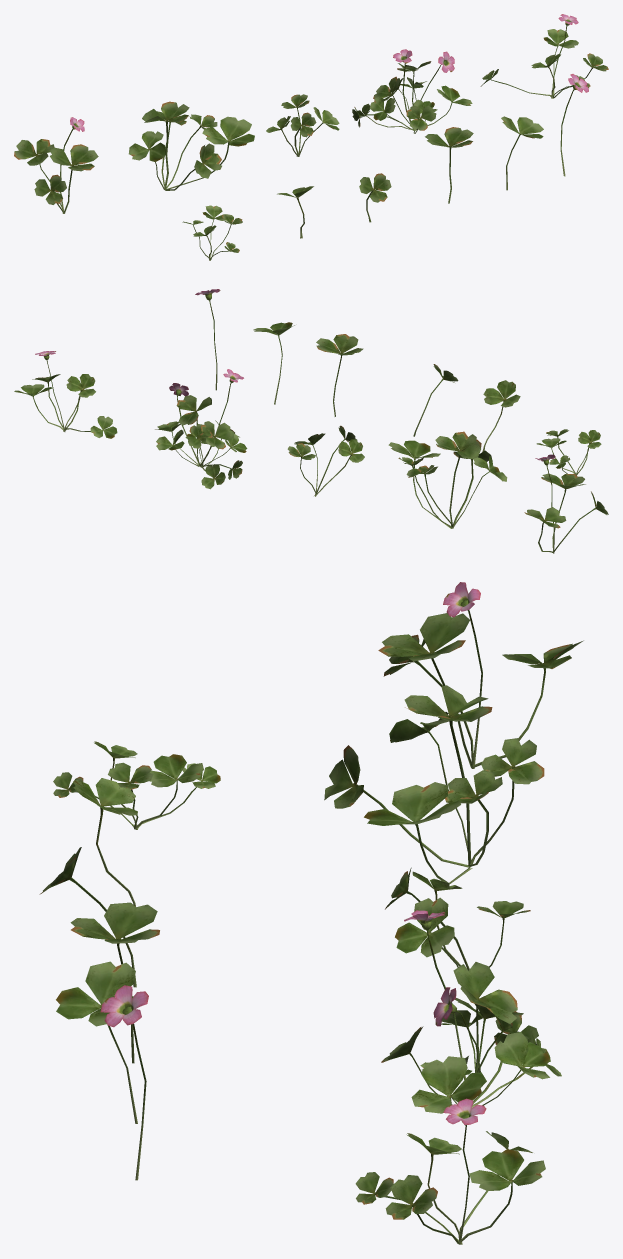
The model's file is shrub_sorrel_01.glb.
The picture shows the model from 3 angles, top to bottom: view 1: azimuth 30°, elevation 25°; view 2: azimuth 150°, elevation 25°; view 3: azimuth 270°, elevation 25°; orthographic projection. The views are drawn at different scales.
Parts seen in each view (by area): view 1: shrub_sorrel_01_lod0; view 2: shrub_sorrel_01_lod0; view 3: shrub_sorrel_01_lod0.
Boxes of the visible parts, x1,y1,x2,y2 form: shrub_sorrel_01_lod0: [14, 14, 608, 260]; shrub_sorrel_01_lod0: [14, 289, 608, 553]; shrub_sorrel_01_lod0: [39, 582, 583, 1244].
Size of what is drawn, in the model's own units: 0.3521 by 0.058 by 0.1464.
1 material, 1 textured.
